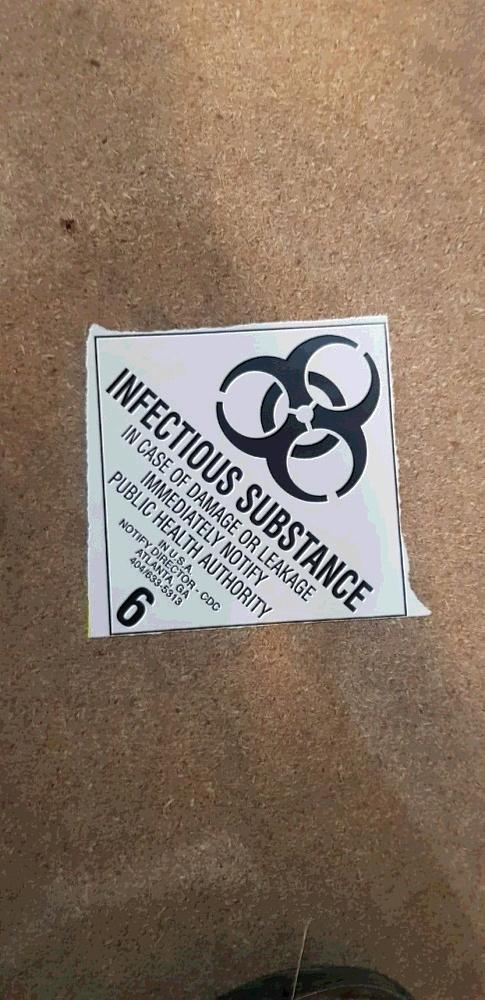infectious-substance: (92, 316, 406, 637)
